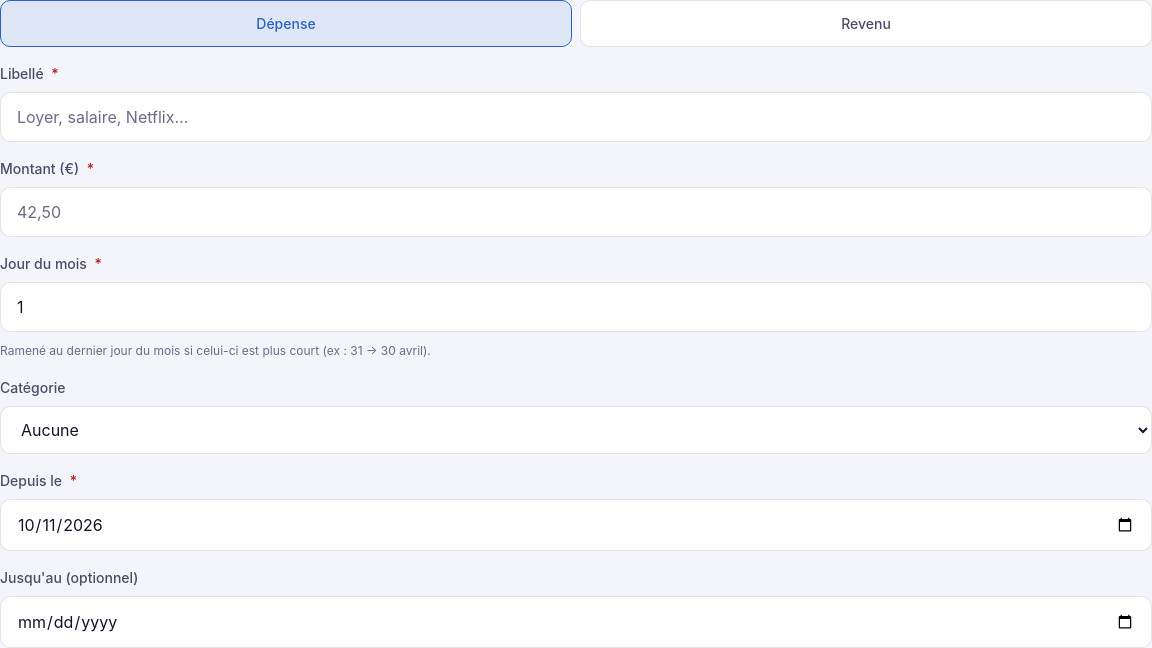
it: RecurringForm — validation › signale libellé, montant et jour invalides sans appeler l'API
Replace the text in the field with id "recurring-day" with "32" at (576, 307), box [0, 282, 1151, 332]
(page scrolled)
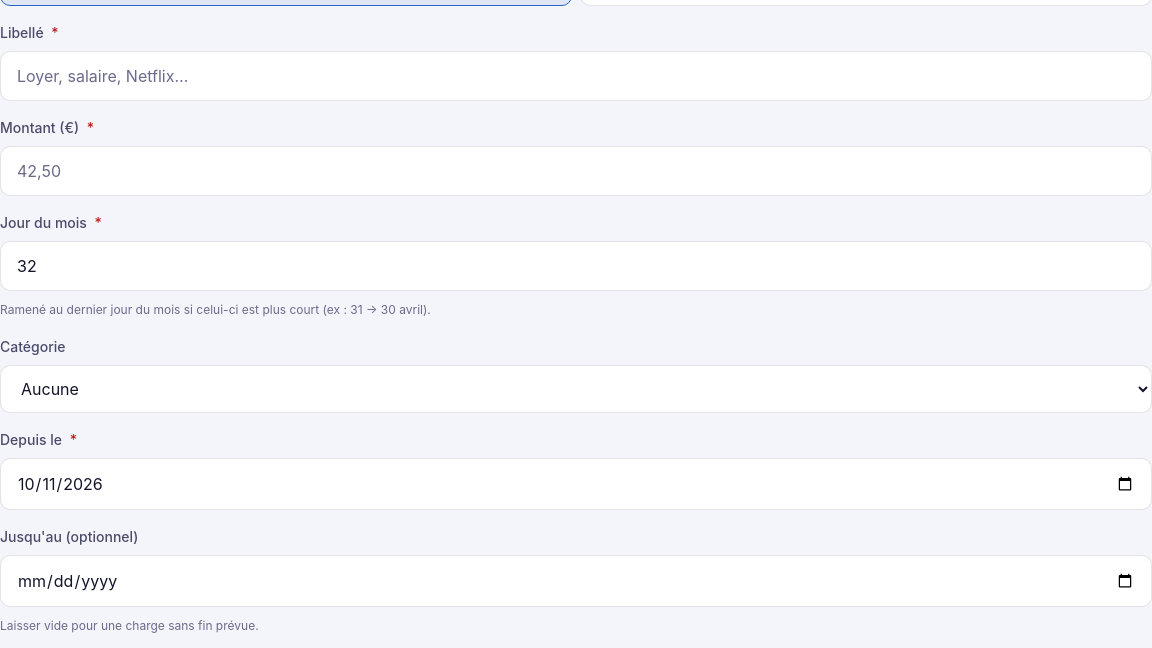
Submit the form
(page scrolled)
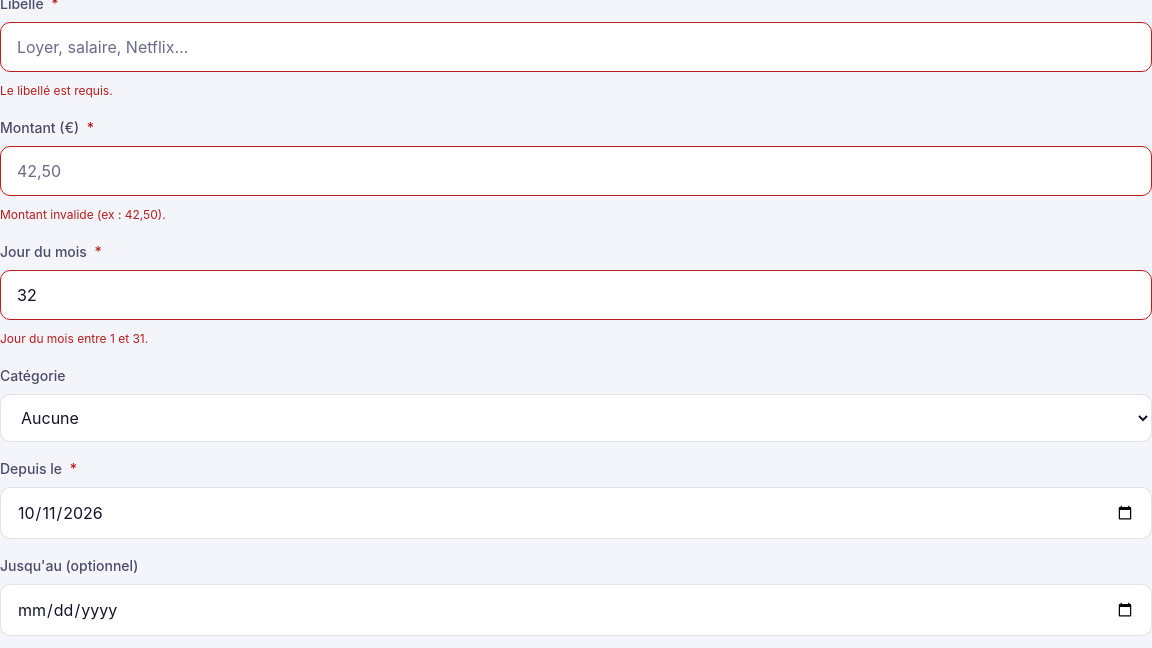
Expected: the form shows "Le libellé est requis.", [0, 83, 113, 98]
Expected: the form shows "Montant invalide", [0, 207, 166, 222]
Expected: the form shows "Jour du mois entre 1 et 31.", [0, 331, 148, 346]
